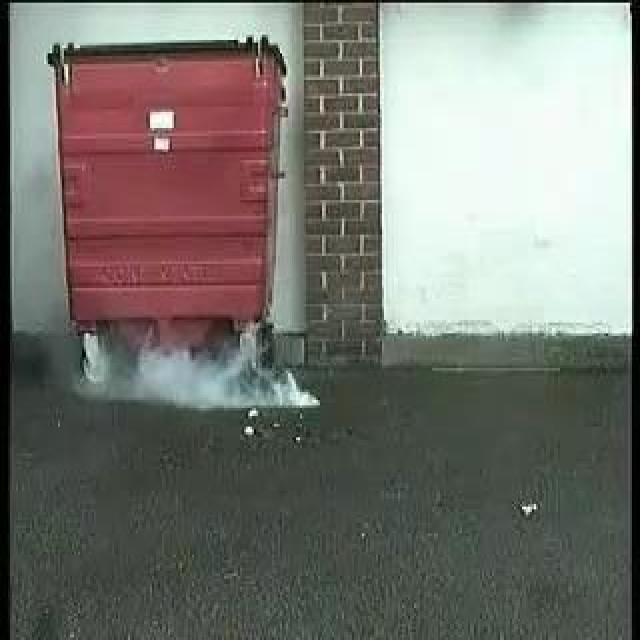Smoke: (68, 355, 318, 413)
